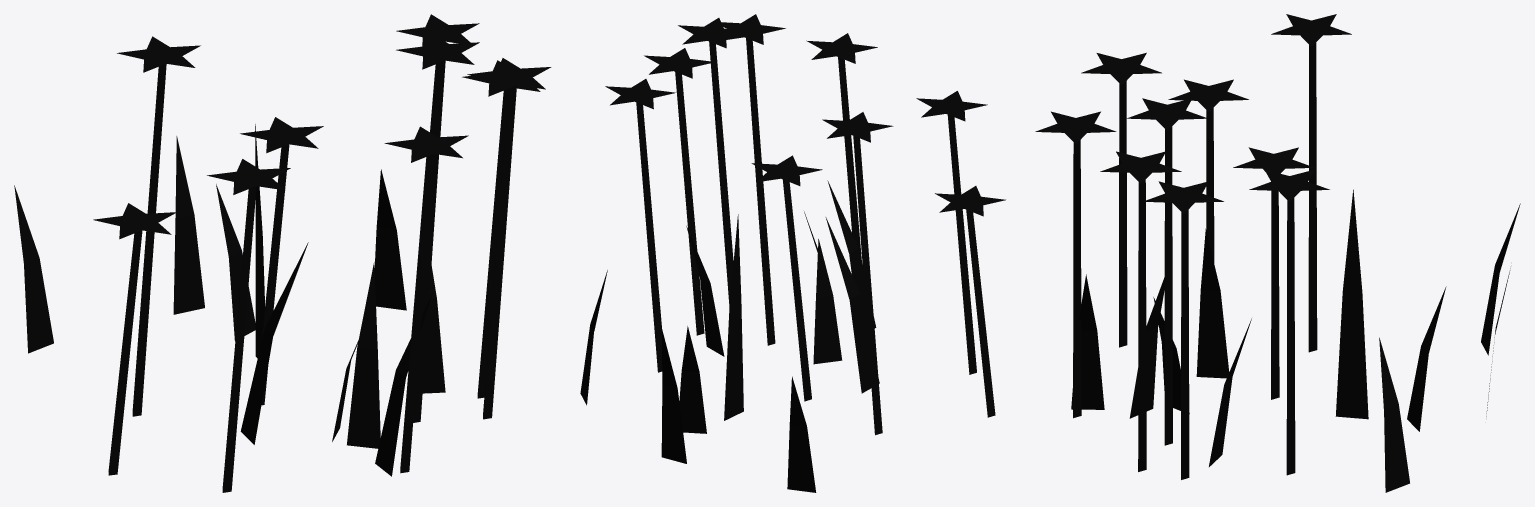
Rendered from SM_flowers_purple.fbx.
3 views of the same model, side by side, from view 1: azimuth 30°, elevation 25°; view 2: azimuth 150°, elevation 25°; view 3: azimuth 270°, elevation 25° (orthographic). The views are drawn at different scales.
Visible parts, largest first — view 1: flowers_purple; view 2: flowers_purple; view 3: flowers_purple.
Boxes of the visible parts, x1=… form: flowers_purple: x1=14, y1=14, x2=551, y2=492; flowers_purple: x1=580, y1=14, x2=1005, y2=492; flowers_purple: x1=1035, y1=14, x2=1520, y2=492.
Bounding box in the file's own units: 0.4873 × 0.3963 × 0.5087.
